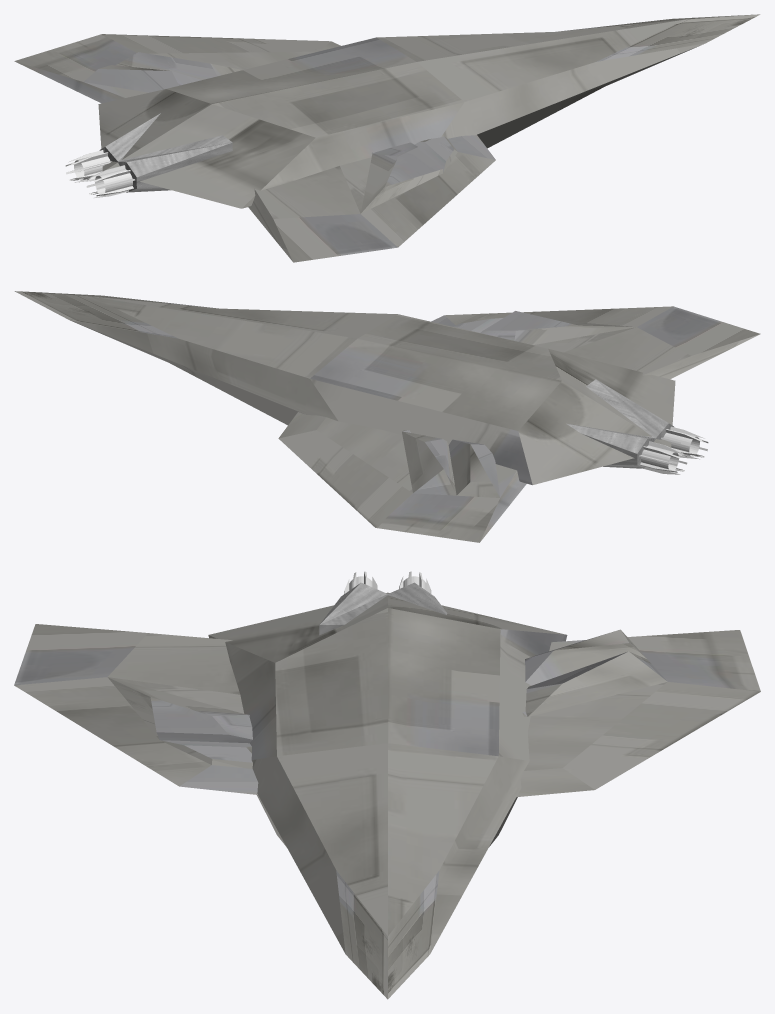
Rendered from frigate.dae.
3 views of the same model, one above another, from view 1: azimuth 30°, elevation 25°; view 2: azimuth 150°, elevation 25°; view 3: azimuth 270°, elevation 25° (orthographic). The views are drawn at different scales.
Parts seen in each view (by area): view 1: Body, Wing, Engine, discombobulated_mesh, Engine_starboard, discombobulated_mesh_001, Engine_port; view 2: Body, Wing, Engine, discombobulated_mesh_001, Engine_port, discombobulated_mesh, Engine_starboard; view 3: Body, Wing, Engine.
Part boxes in pixels (x1,y1,x2,y2): Body: (98, 14, 760, 208); Wing: (14, 34, 495, 262); Engine: (99, 113, 232, 192); discombobulated_mesh: (86, 165, 134, 197); Engine_starboard: (95, 169, 132, 195); discombobulated_mesh_001: (65, 150, 111, 182); Engine_port: (74, 156, 110, 180); Body: (14, 291, 675, 485); Wing: (278, 306, 760, 542); Engine: (566, 379, 673, 468); discombobulated_mesh_001: (639, 441, 687, 474); Engine_port: (641, 445, 678, 472); discombobulated_mesh: (661, 426, 708, 459); Engine_starboard: (663, 432, 699, 456); Body: (208, 592, 567, 999); Wing: (14, 624, 760, 797); Engine: (319, 582, 447, 635).
Size of the model in its own units: 9.33 by 7.07 by 1.04.
Materials: 2 (2 with a texture image).
